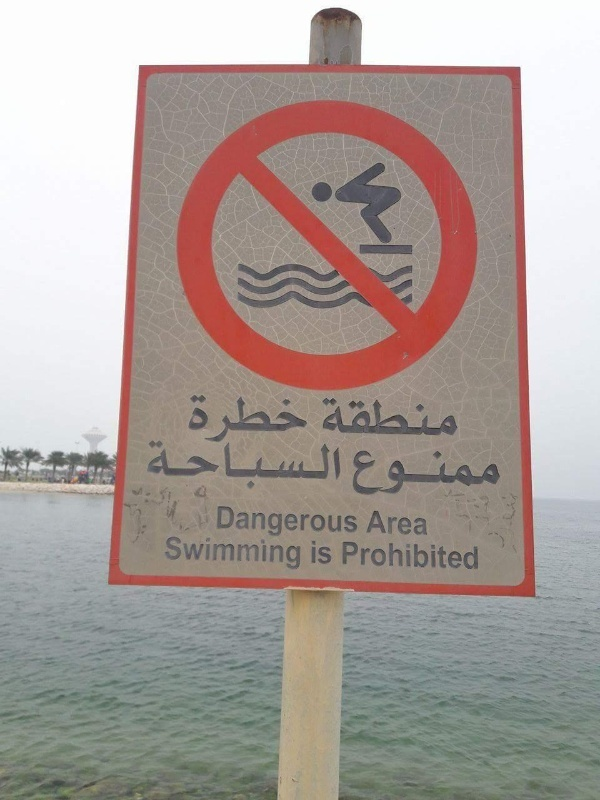text: (145, 440, 160, 493), (161, 440, 176, 493), (177, 440, 192, 493), (193, 440, 208, 493), (209, 440, 224, 493), (225, 440, 240, 493), (241, 440, 256, 493), (257, 440, 272, 493), (273, 440, 288, 493), (289, 440, 304, 493), (305, 440, 320, 493), (321, 440, 336, 493), (353, 446, 368, 497), (369, 446, 384, 497), (385, 446, 400, 497), (401, 446, 416, 497), (417, 446, 432, 497), (433, 446, 448, 497), (449, 446, 464, 497), (465, 446, 480, 497), (481, 446, 496, 497), (193, 394, 208, 443), (209, 394, 224, 443), (225, 394, 240, 443), (241, 394, 256, 443), (257, 394, 272, 443), (273, 394, 288, 443), (289, 394, 304, 443), (321, 395, 336, 437), (337, 395, 352, 437), (353, 395, 368, 437), (369, 395, 384, 437), (385, 395, 400, 437), (401, 395, 416, 437), (417, 395, 432, 437), (433, 395, 448, 437), (177, 536, 192, 572), (193, 536, 208, 572), (209, 536, 224, 572), (225, 536, 240, 572), (241, 536, 256, 572), (257, 536, 272, 572), (273, 536, 288, 572), (289, 536, 304, 572), (225, 506, 240, 541), (241, 506, 256, 541), (257, 506, 272, 541), (273, 506, 288, 541), (289, 506, 304, 541), (305, 506, 320, 541), (321, 506, 336, 541), (337, 506, 352, 541), (465, 541, 481, 573), (353, 541, 368, 573), (369, 541, 384, 573), (385, 541, 400, 573), (401, 541, 416, 573), (417, 541, 432, 573), (433, 541, 448, 573), (449, 541, 464, 573), (369, 510, 384, 541), (385, 510, 400, 541), (401, 510, 416, 541), (164, 536, 176, 572), (449, 395, 459, 437), (417, 510, 429, 541), (337, 440, 344, 493), (341, 541, 352, 573), (321, 540, 334, 566), (497, 446, 502, 497), (218, 506, 224, 541), (353, 506, 359, 541), (312, 540, 320, 566), (350, 446, 352, 497), (190, 394, 192, 443), (305, 394, 307, 443), (143, 440, 144, 493)
